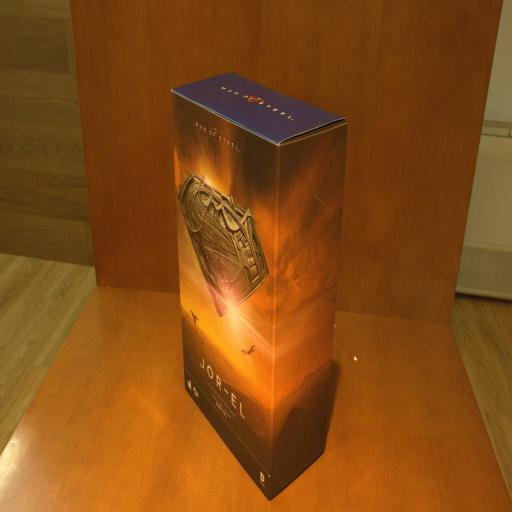superman: (172, 70, 348, 501)
